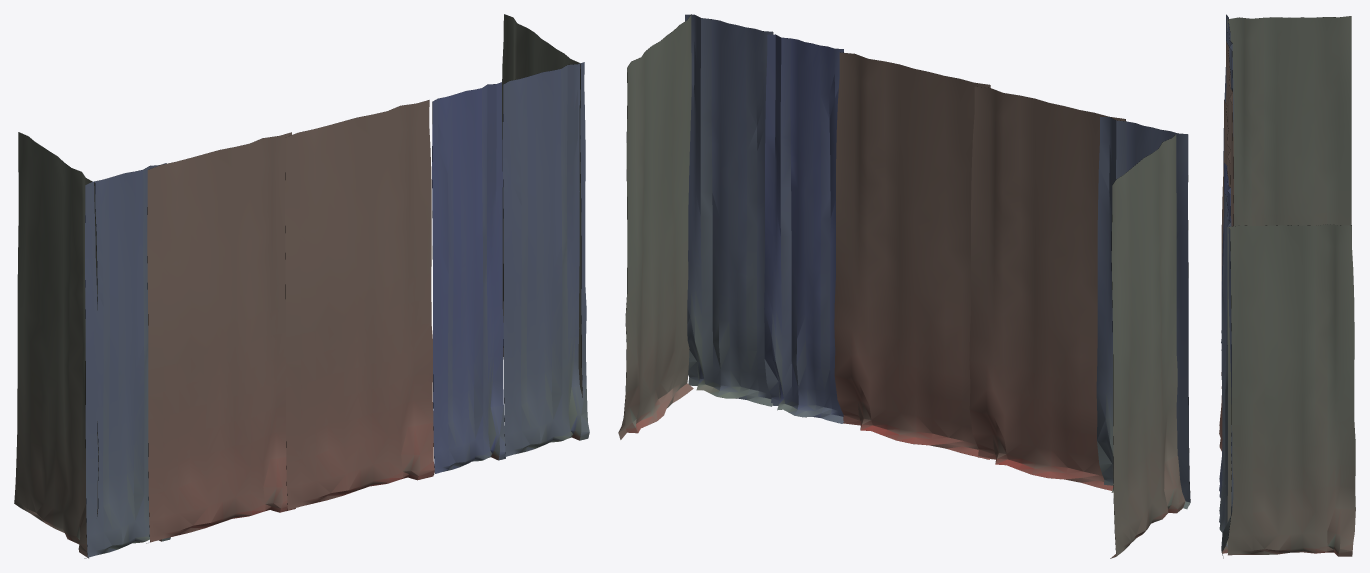
File: curtain C.fbx
3 views of the same model, side by side, from view 1: azimuth 30°, elevation 25°; view 2: azimuth 150°, elevation 25°; view 3: azimuth 270°, elevation 25° (orthographic). The views are drawn at different scales.
Parts seen in each view (by area): view 1: curtain C; view 2: curtain C; view 3: curtain C.
Part boxes in pixels (x1,y1,x2,y2): curtain C: (14, 14, 589, 558); curtain C: (618, 14, 1190, 558); curtain C: (1219, 14, 1355, 558).
Size of the model in its own units: 344 by 244 by 91.81.
